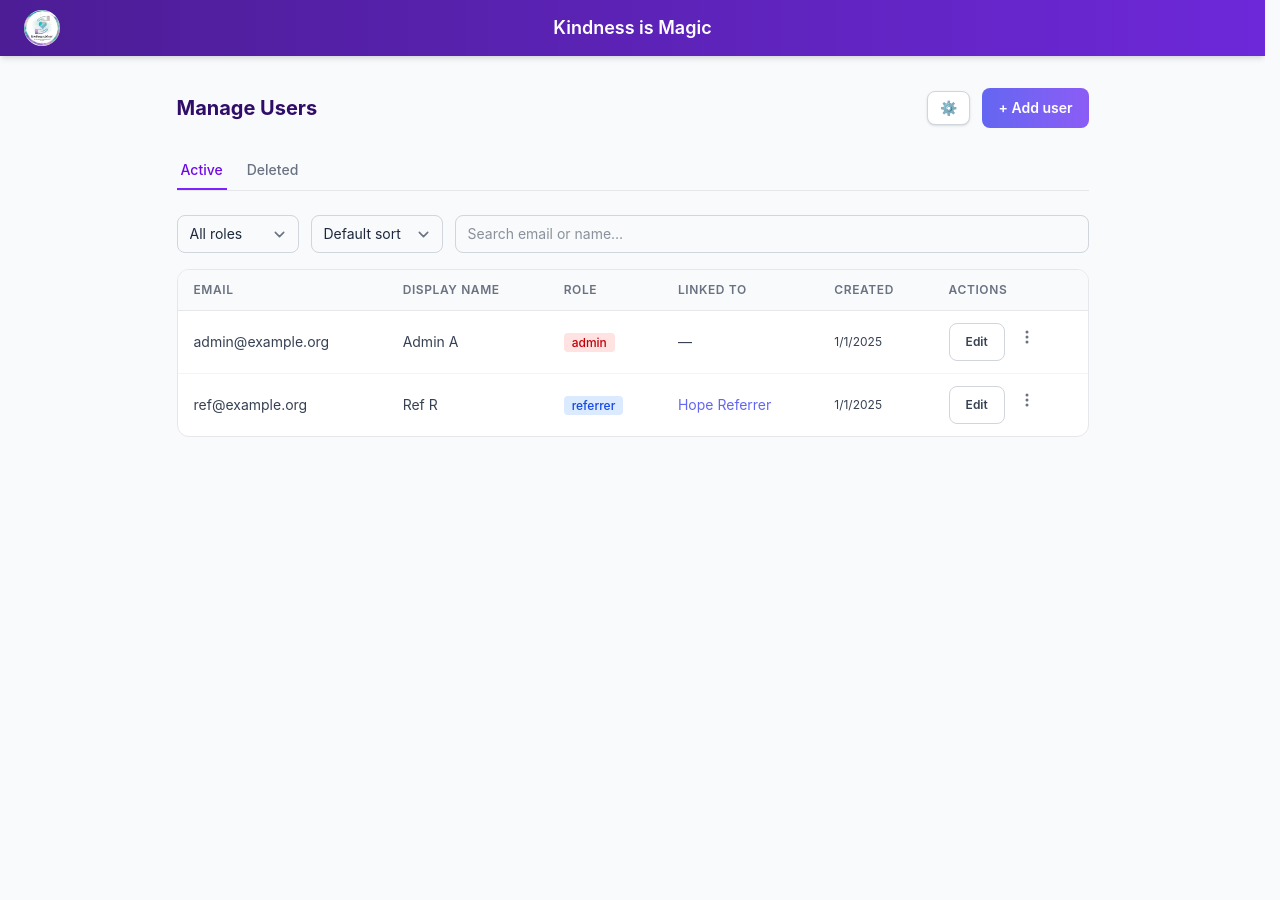
it: AdminUsers › deleted tab restores users
Expected: the text "admin@example.org" is shown, [178,310,387,374]
Click the tab "Deleted".
click(272, 171)  # box [243,152,302,190]
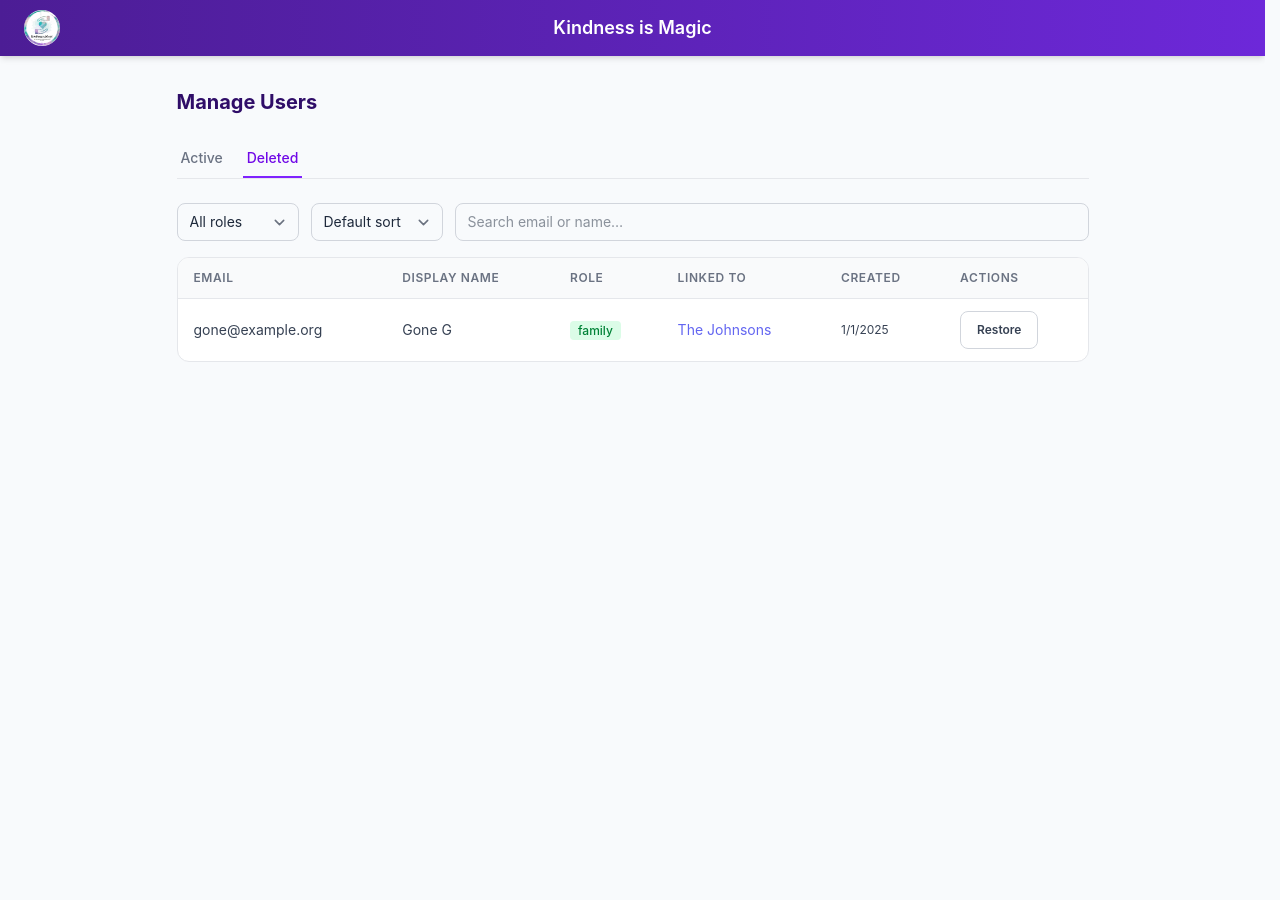
Expected: the text "Gone G" is shown, [386,298,554,361]
Click the button "Restore".
click(999, 330)  # box [960,311,1038,349]
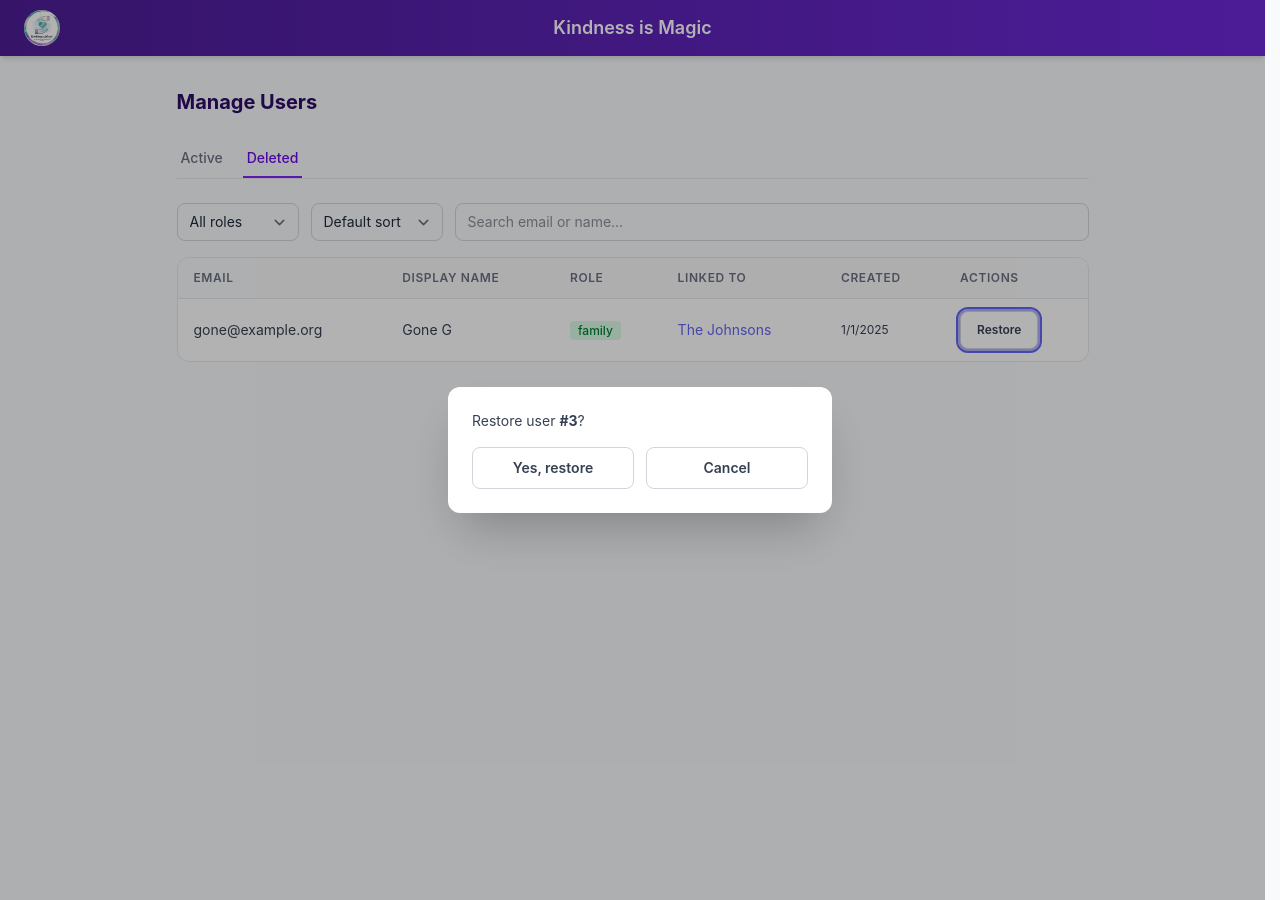
Expected: the text "Restore user #3?" is shown, [472,412,585,429]
Click the button "Yes, restore".
click(553, 468)  # box [472,447,634,489]
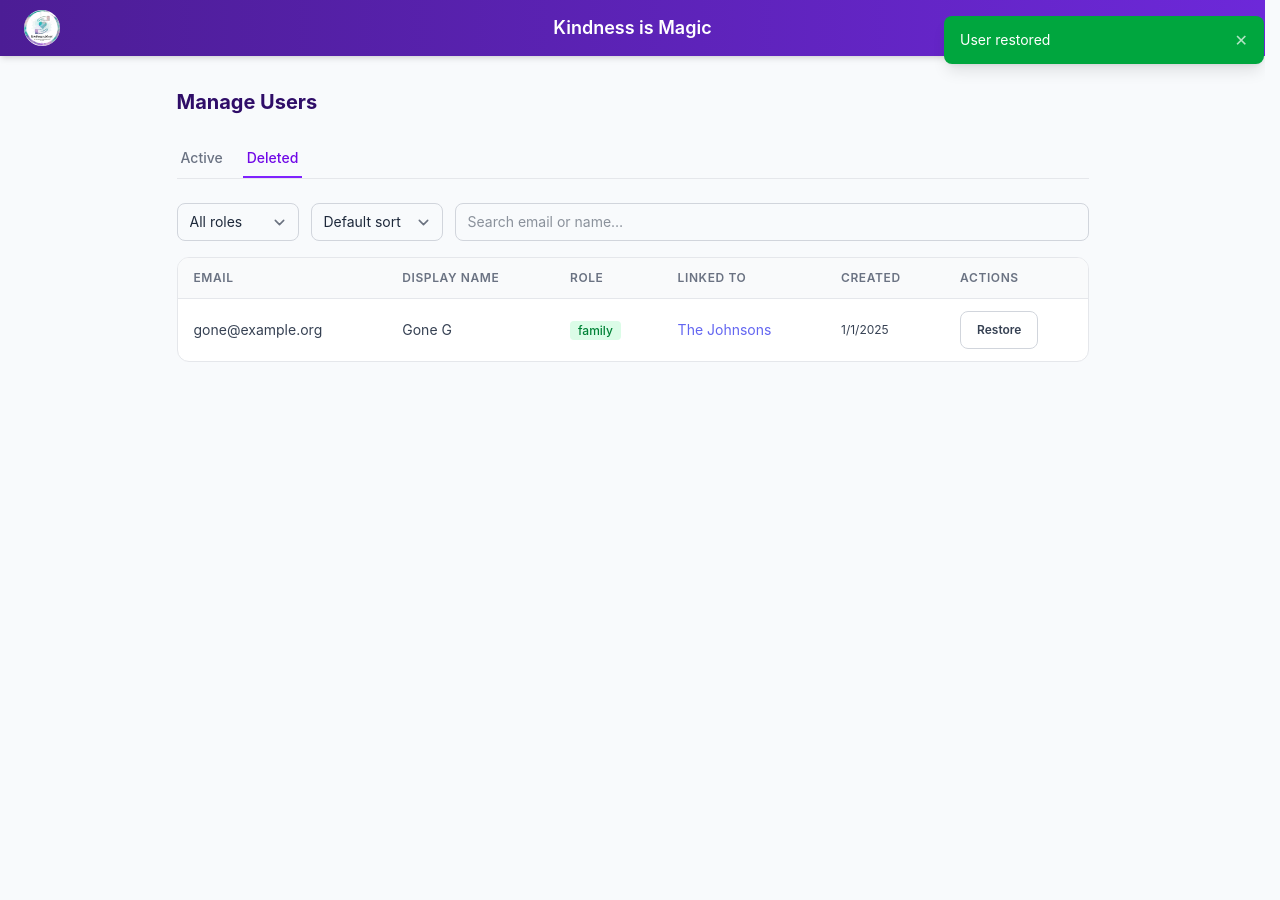
Expected: the text "User restored" is shown, [960,31,1050,48]
